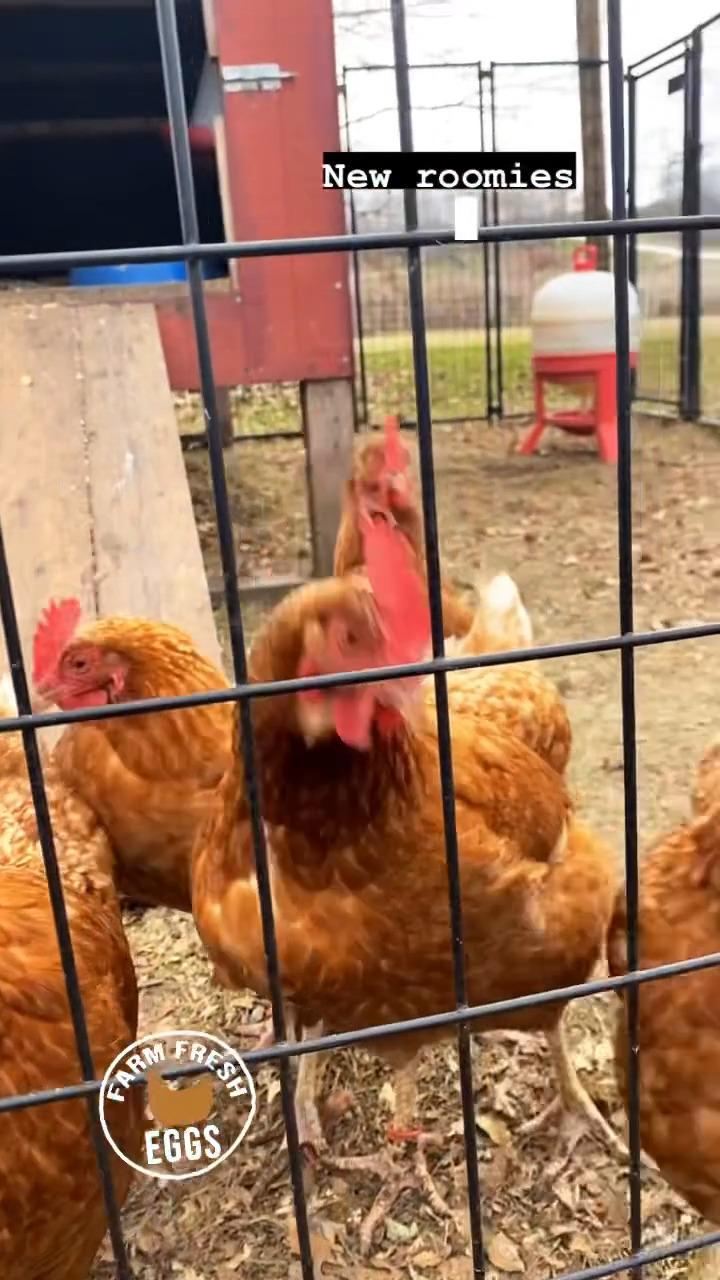rooster: (189, 576, 622, 1256), (0, 706, 139, 1279), (19, 592, 242, 912), (601, 736, 719, 1241), (333, 412, 474, 648)
